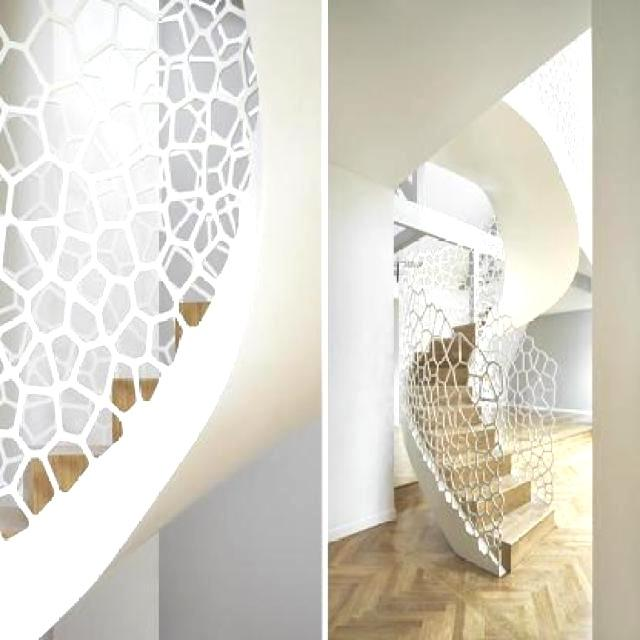stair: (406, 256, 539, 574)
